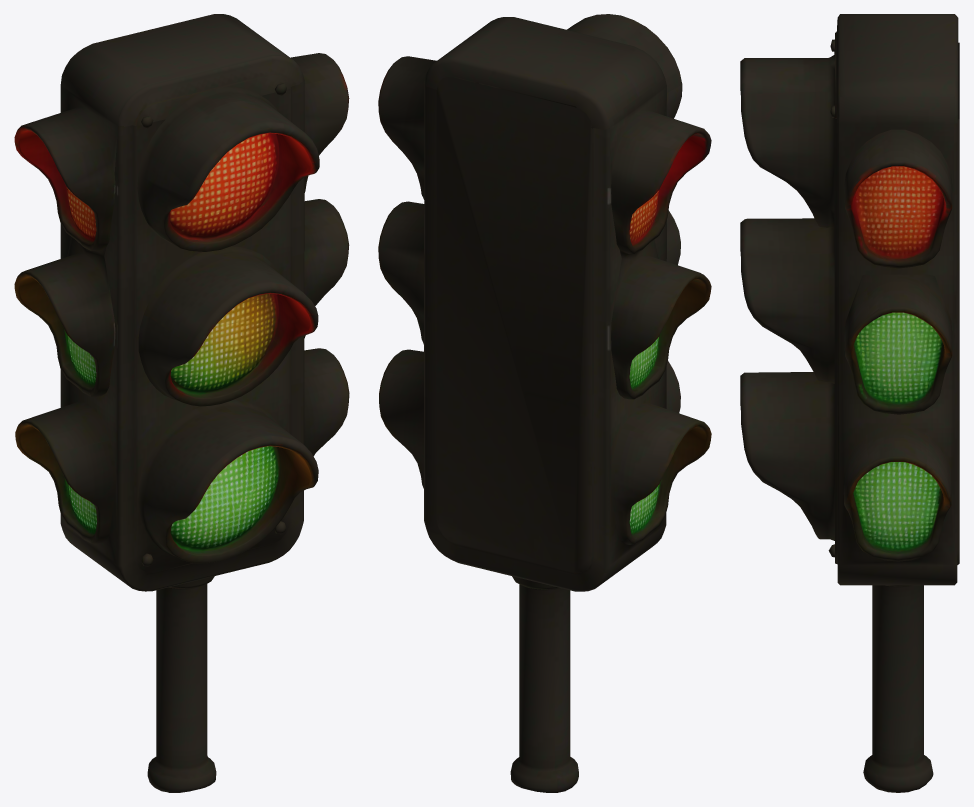
File: full_traffic_light_bb6a606f_v2.glb
3 renders of one model, left to right at view 1: azimuth 30°, elevation 25°; view 2: azimuth 150°, elevation 25°; view 3: azimuth 270°, elevation 25°, orthographic.
Parts seen in each view (by area): view 1: material; view 2: material; view 3: material.
Boxes of the visible parts, x1,y1,x2,y2 form: material: [14, 14, 349, 792]; material: [378, 14, 711, 792]; material: [740, 14, 959, 792].
Bounding box in the file's own units: 0.8077 × 1.9 × 0.5155.
Materials: 1 (1 with a texture image).
